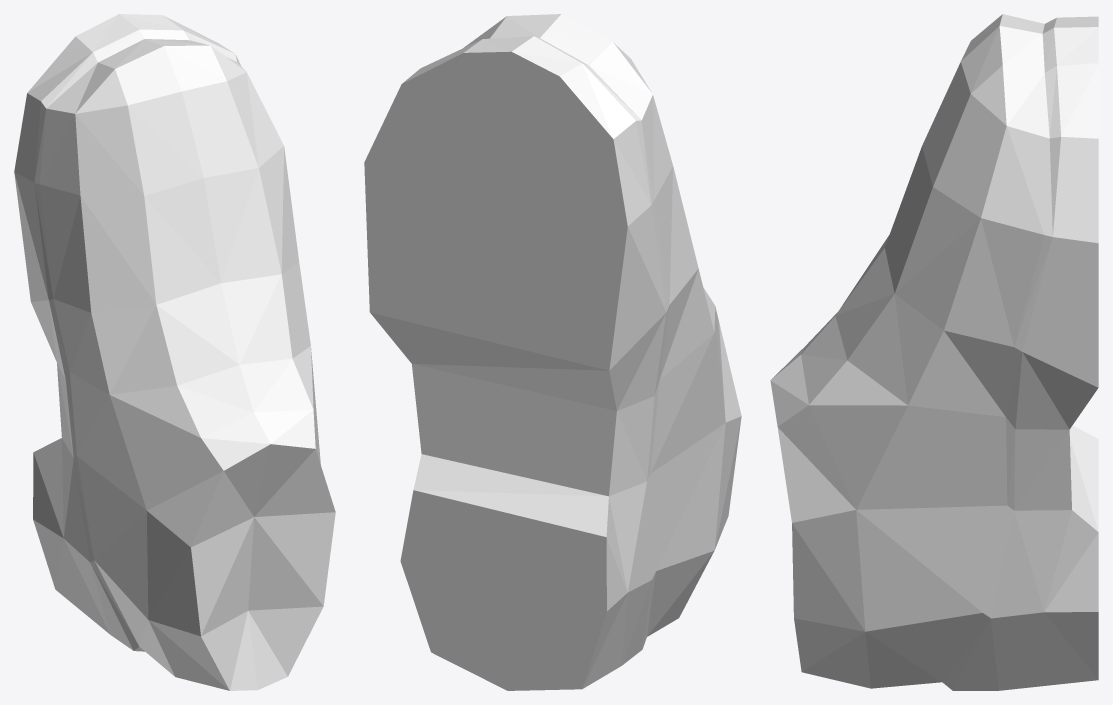
The model's file is r_foot.dae.
3 renders of one model, left to right at view 1: azimuth 30°, elevation 25°; view 2: azimuth 150°, elevation 25°; view 3: azimuth 270°, elevation 25°, orthographic. The views are drawn at different scales.
Visible parts, largest first — view 1: node; view 2: node; view 3: node.
Boxes of the visible parts, x1,y1,x2,y2 form: node: (14,14,335,690); node: (364,14,741,690); node: (770,14,1098,690).
Size of the model in its own units: 0.1154 by 0.2766 by 0.1254.
1 material, 1 textured.
